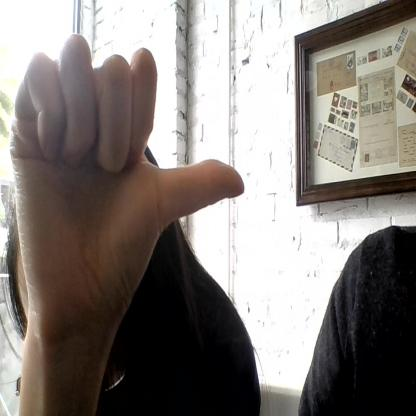left: (10, 31, 244, 326)
